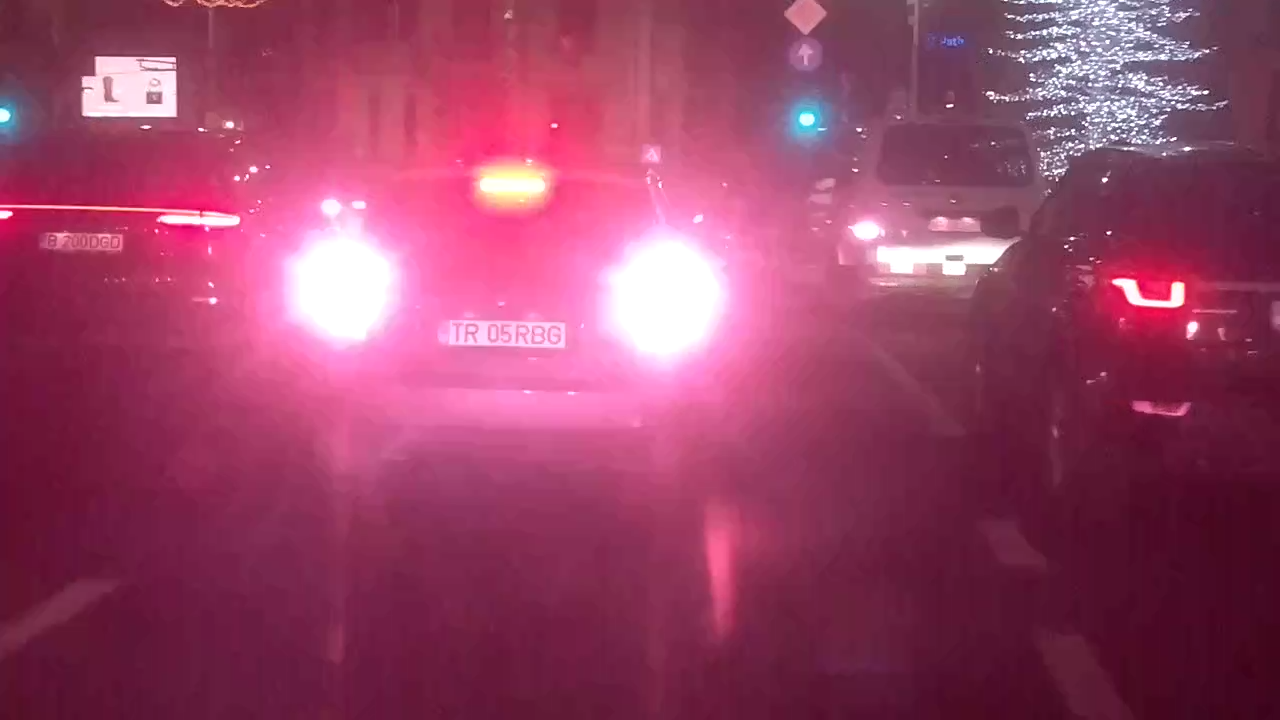license-plate: (427, 316, 571, 352), (33, 229, 127, 254)
